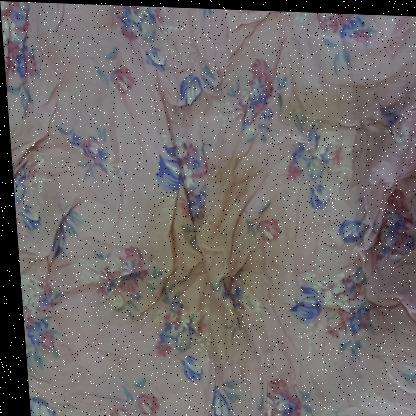spot: (189, 204, 237, 276), (149, 250, 208, 305), (154, 198, 205, 257), (206, 156, 242, 223), (138, 285, 188, 324), (283, 86, 325, 122), (196, 300, 231, 333)
